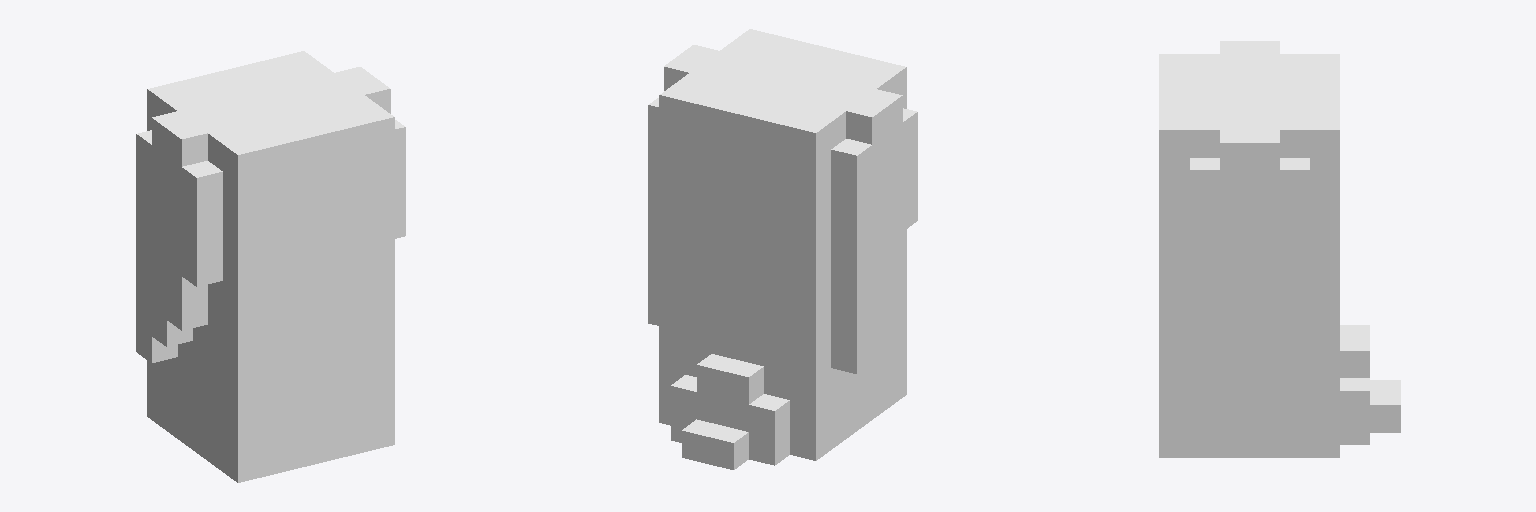
File: Pingvin-2.obj
3 renders of one model, left to right at view 1: azimuth 30°, elevation 25°; view 2: azimuth 150°, elevation 25°; view 3: azimuth 270°, elevation 25°, orthographic.
Parts seen in each view (by area): view 1: object 1; view 2: object 1; view 3: object 1.
Part boxes in pixels (bbox=[...]): object 1: bbox=[136, 51, 405, 482]; object 1: bbox=[648, 29, 917, 469]; object 1: bbox=[1159, 41, 1400, 457].
Size of the model in its own units: 0.8 by 1.2 by 0.8.